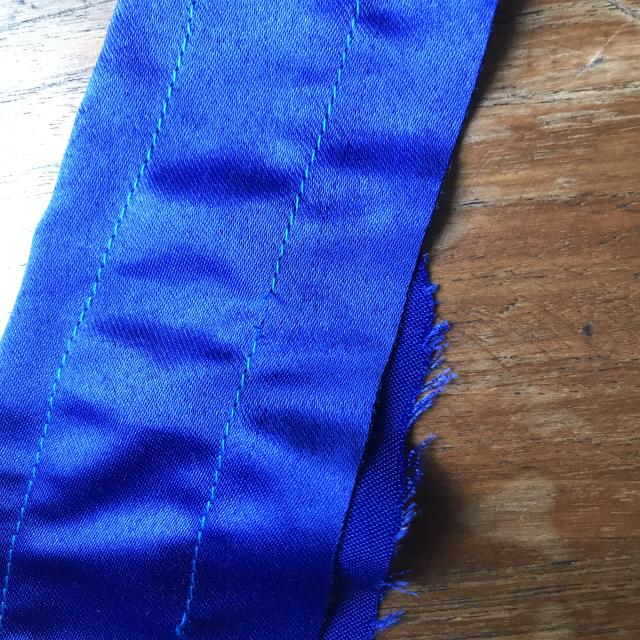broken: (214, 262, 302, 352)
